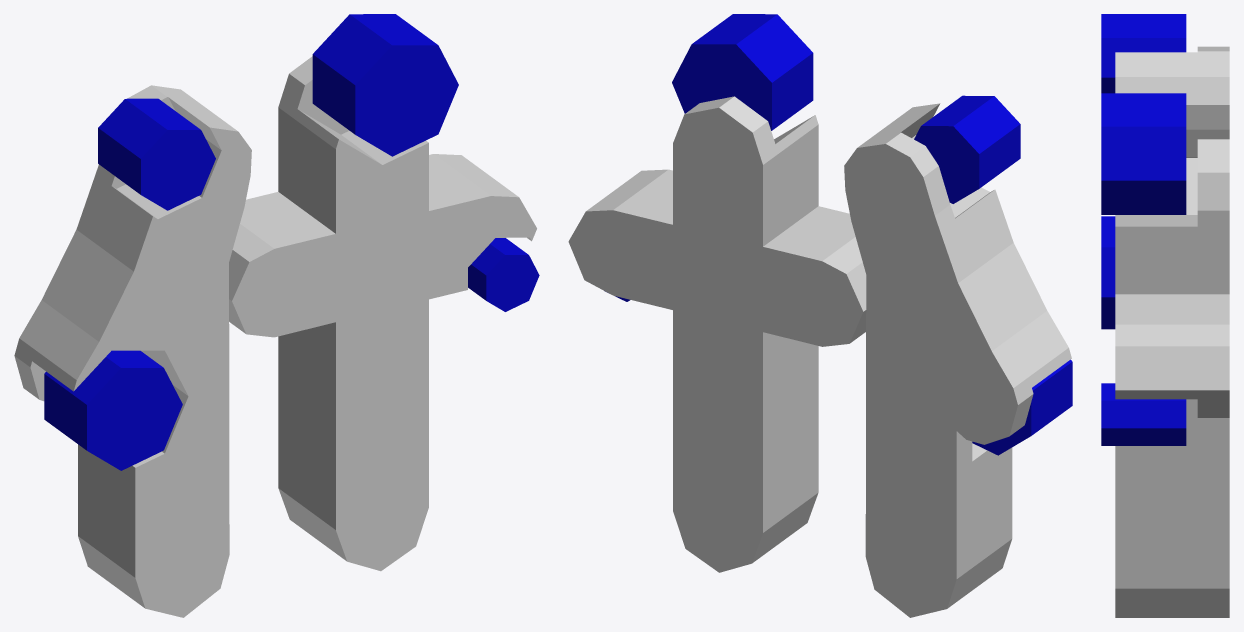
The model's file is Ch_Lite_China_什_01.fbx.
The picture shows the model from 3 angles, left to right: view 1: azimuth 30°, elevation 25°; view 2: azimuth 150°, elevation 25°; view 3: azimuth 270°, elevation 25°; orthographic projection. The views are drawn at different scales.
Parts seen in each view (by area): view 1: sphere1; view 2: sphere1; view 3: sphere1.
Boxes of the visible parts, x1,y1,x2,y2 form: sphere1: (14, 14, 539, 617); sphere1: (568, 14, 1072, 617); sphere1: (1101, 14, 1229, 617).
Size of the model in its own units: 0.9341 by 1.02 by 0.2242.
